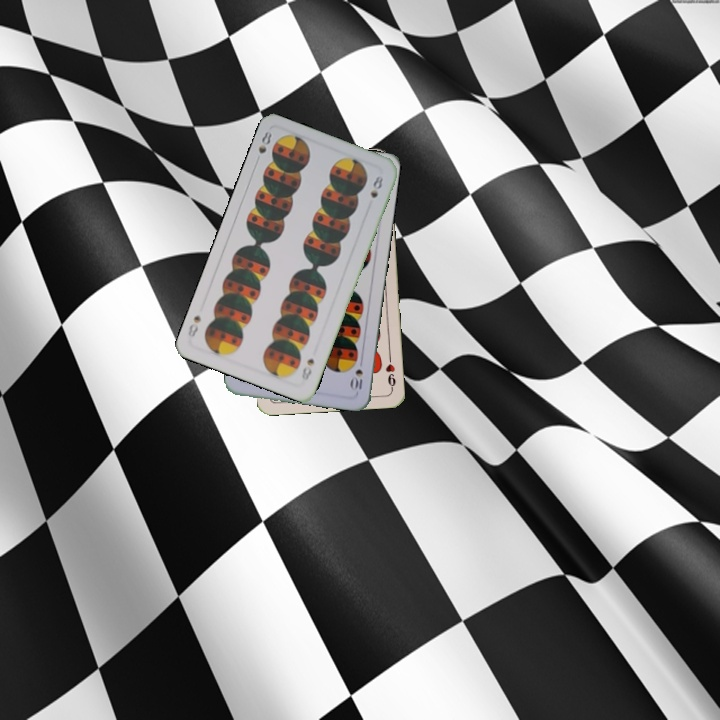H9: (382, 351, 398, 392)
S10: (348, 354, 365, 392)
S8: (251, 127, 274, 166), (297, 354, 317, 383)
